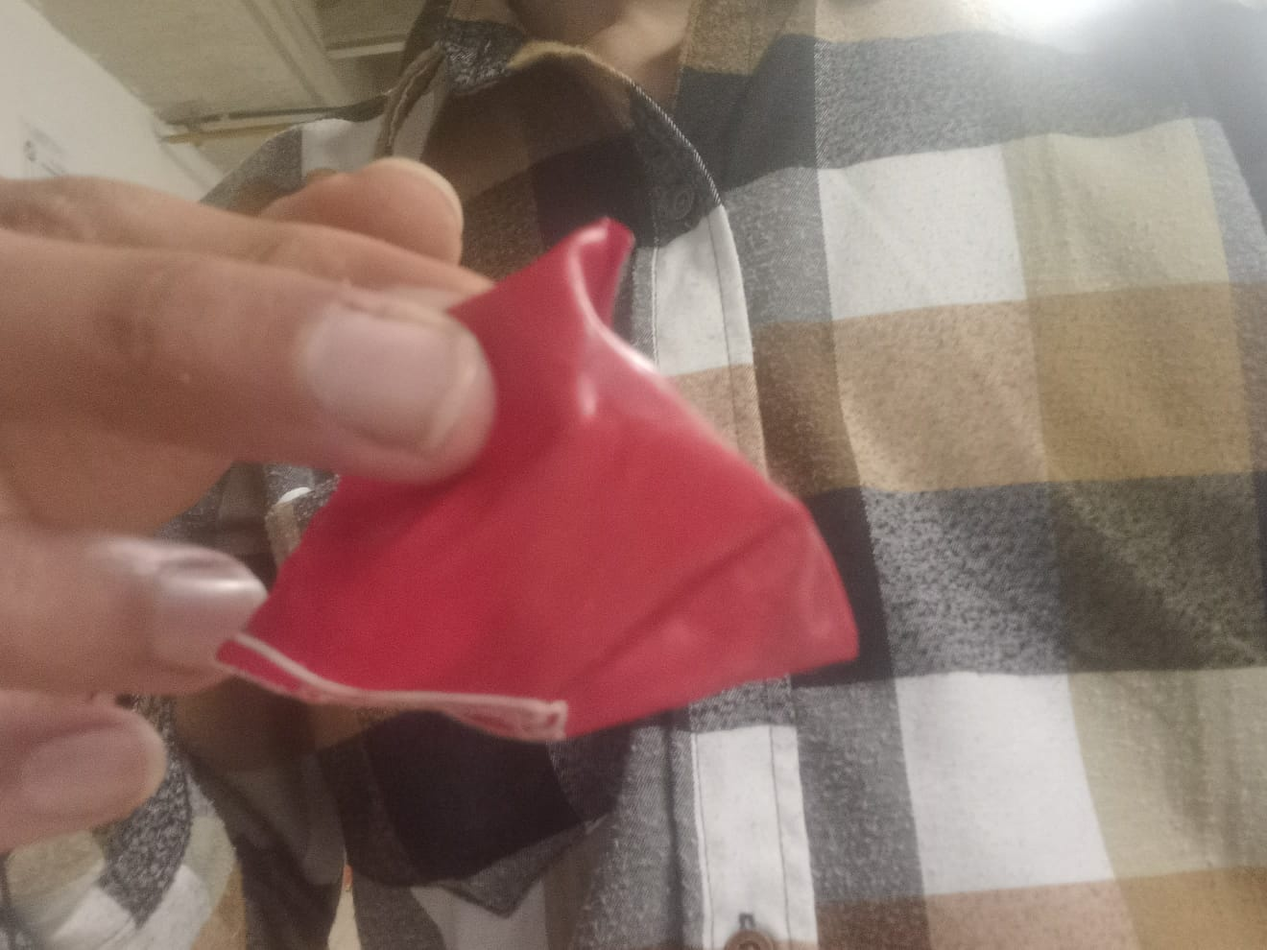Papel: (213, 221, 859, 746)
